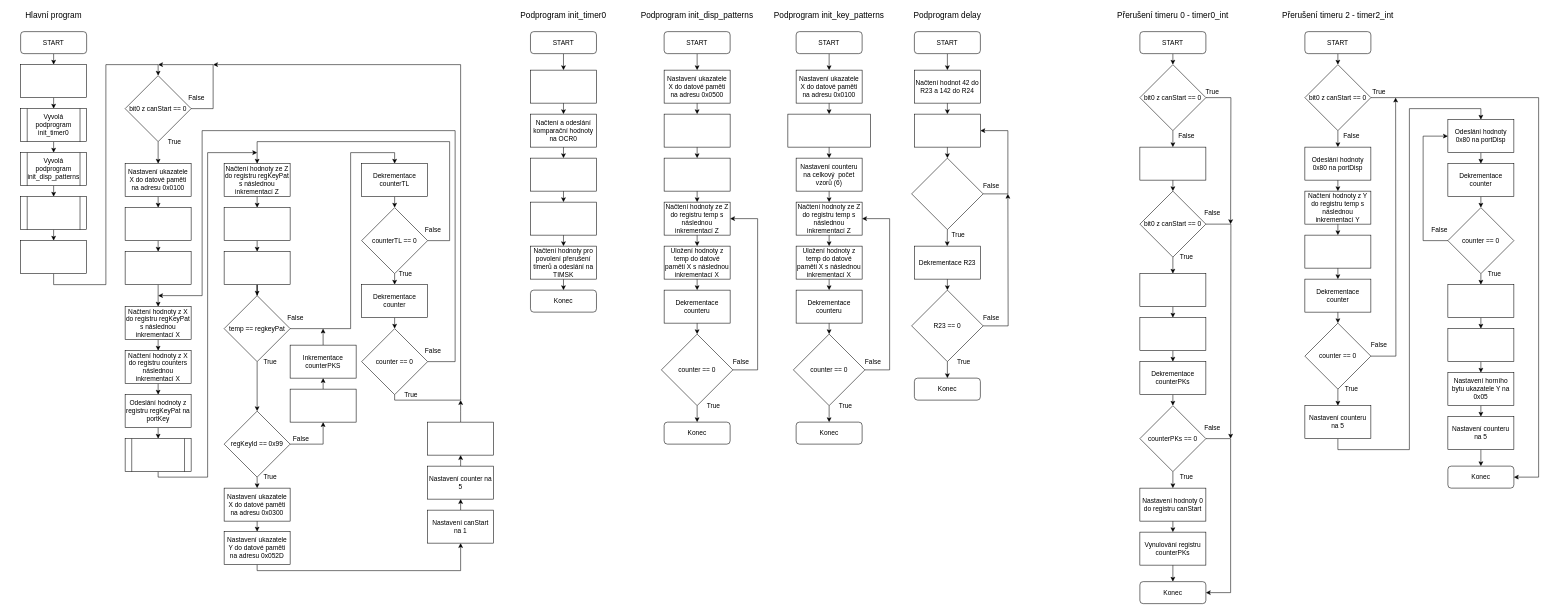
Image size: 1553x613. Some labels were removed from this diagram. The centre of each missing label's shape, as x and y in pixels:
Dekrementace changePattern: the point at 1172,163
Dekrementace R24: the point at 947,130
Inicializace: the point at 53,81
Nastavení changePattern na 122: the point at 460,438
Nastavení counteru na celkový počet vzorů (50): the point at 697,174
Nastavení hodnoty 122 do registru changePattern: the point at 1172,290
Nastavení ukazatele Z do programové paměti na adresu patterns_disp_beg: the point at 697,130
Nastavení ukazatele Z do programové paměti na adresu patterns_key_beg: the point at 158,224
Nastavení ukazatele Z do programové paměti na adresu patterns_key_column_beg: the point at 828,130
Načtení a odeslání hodnoty předděličky na TCCR0: the point at 563,86
Načtení a odeslání hodnoty předděličky na TCCR2: the point at 563,174
Načtení a odeslání komparační hodnoty na OCR2: the point at 563,218
Načtení hodnoty z X do registru temp: the point at 1480,301
Načtení hodnoty z X do registru temp s následnou inkrementací X: the point at 1172,334
Načtení hodnoty ze Z do registru regKeyId s následnou inkrementací Z: the point at 257,224
Odeslání hodnoty z registru temp na portDisp: the point at 1337,251
Povolení globálního přerušení: the point at 53,257
Přečtení portu pinKey do registru temp: the point at 257,268
R24 == 0: the point at 947,194
Uložení hodnoty z regKeyId do datové paměti Y s následnou inkrementací Y: the point at 323,405
Vypočítání vzorce počtu a uložení výsledku do counteru: the point at 158,268
Vyvolá podprogram init_key_patterns: the point at 53,213
Zavolání podprogramu delay: the point at 158,455
Zkopírování hodnoty z temp do registru R28: the point at 1480,345
